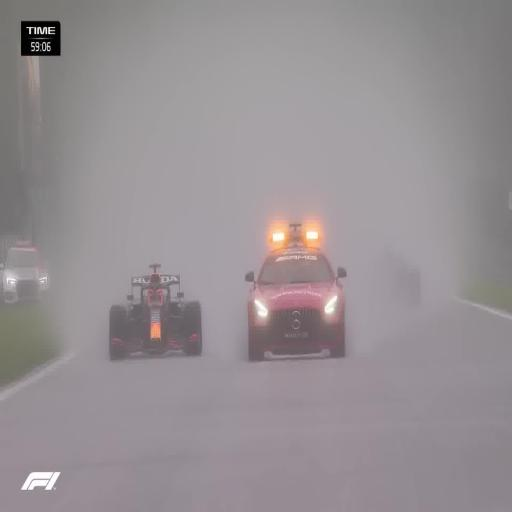f1_car: (109, 263, 202, 359)
